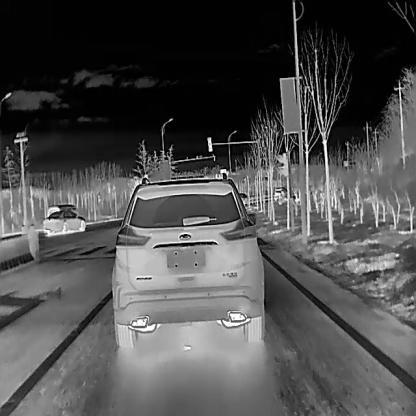car: (110, 170, 264, 349), (43, 208, 87, 236), (273, 186, 288, 201), (238, 193, 250, 207)
crosswalk: (35, 235, 115, 263)
light: (206, 133, 215, 152)
